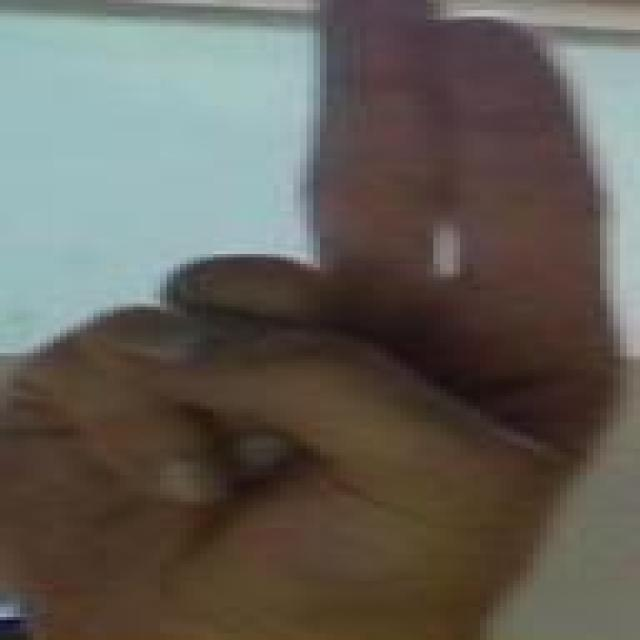U: (4, 5, 632, 615)
